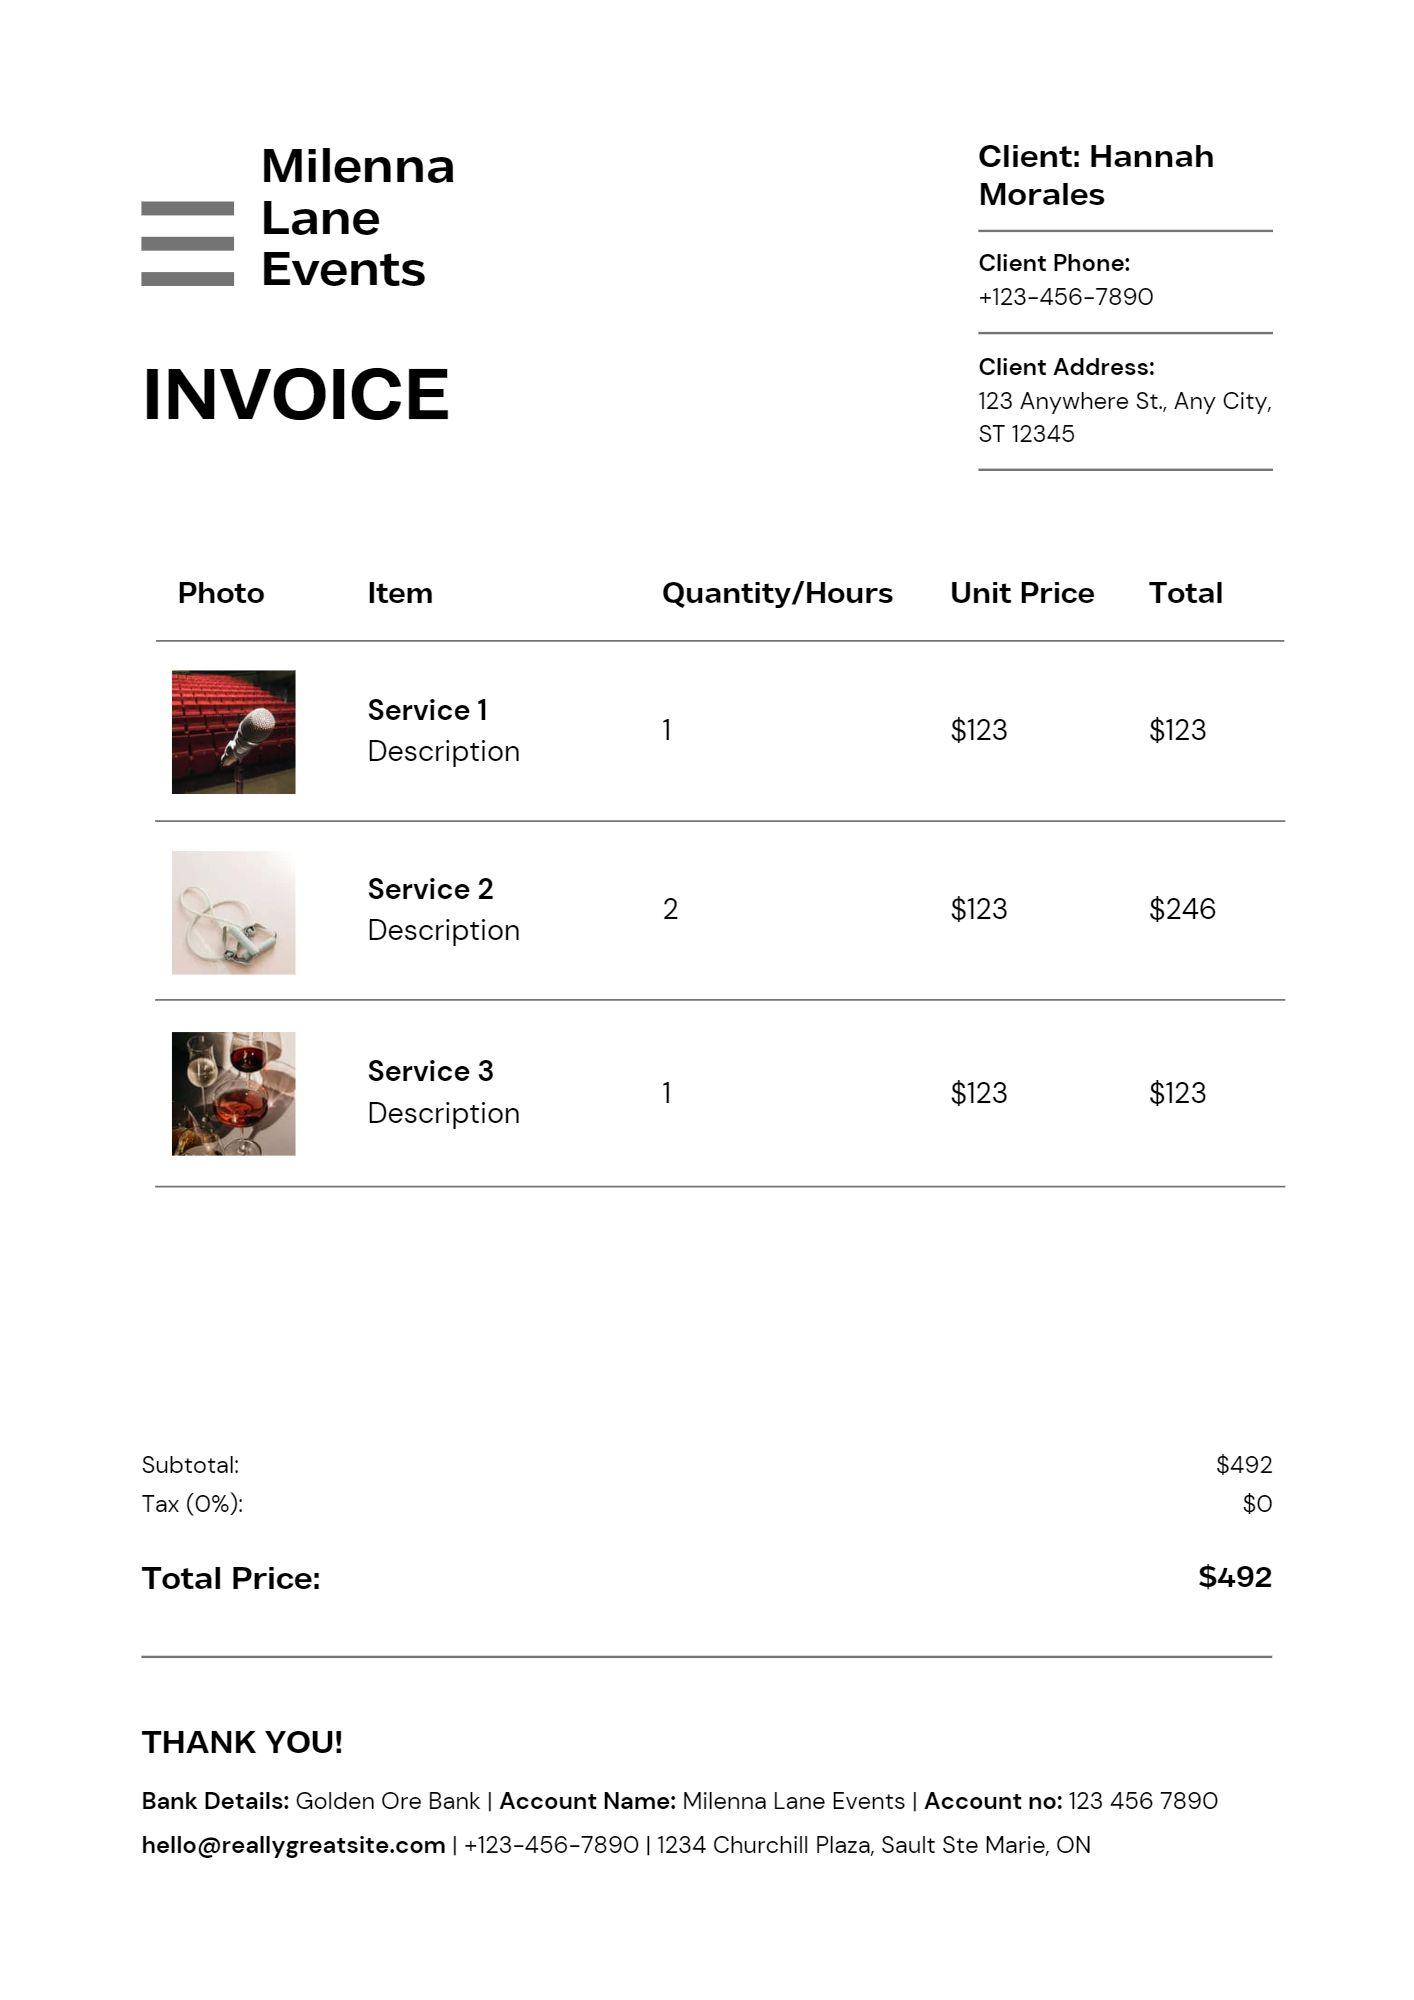ROI: (161, 543, 1279, 1195)
